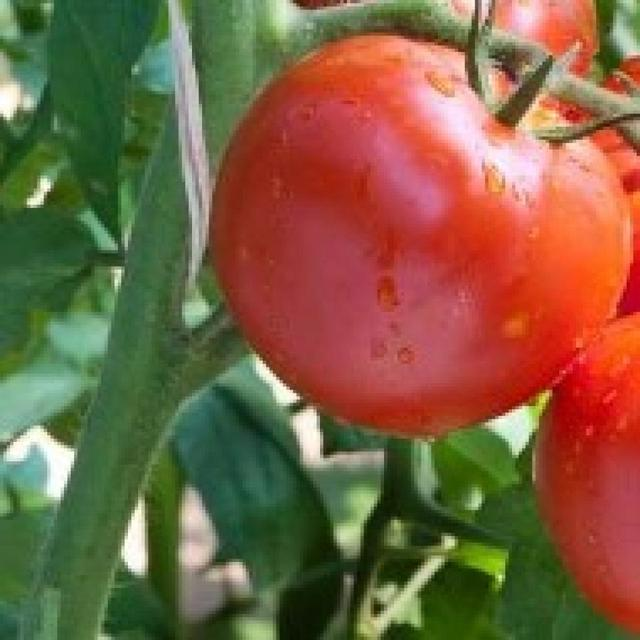Healthy Fruit: (150, 26, 417, 280)
